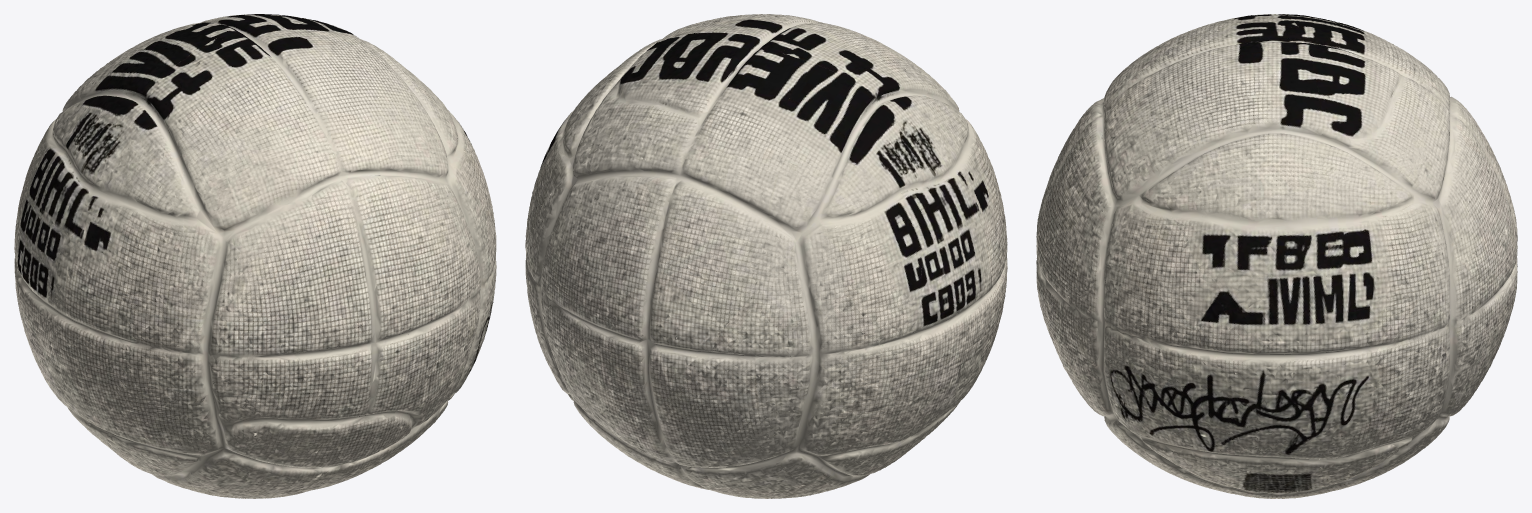
The model's file is basketball-final.glb.
3 renders of one model, left to right at view 1: azimuth 30°, elevation 25°; view 2: azimuth 150°, elevation 25°; view 3: azimuth 270°, elevation 25°, orthographic.
Bounding box in the file's own units: 1.9 × 1.9 × 1.9.
Materials: 1 (1 with a texture image).
